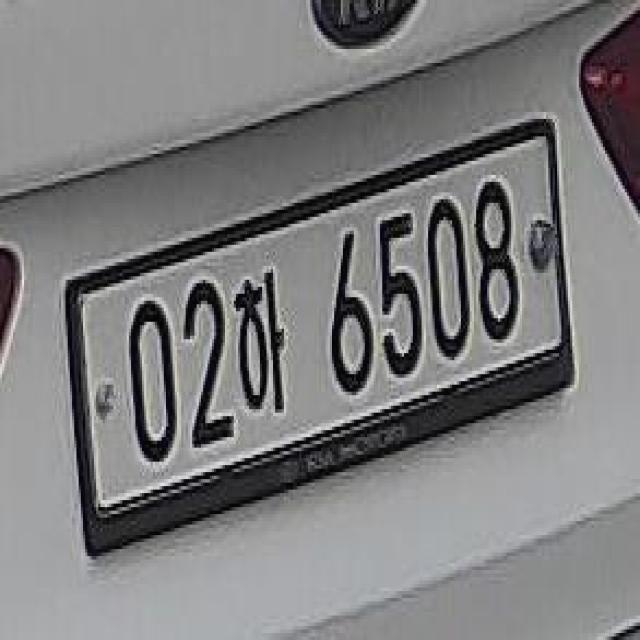illegal_plate: (65, 118, 572, 552)
